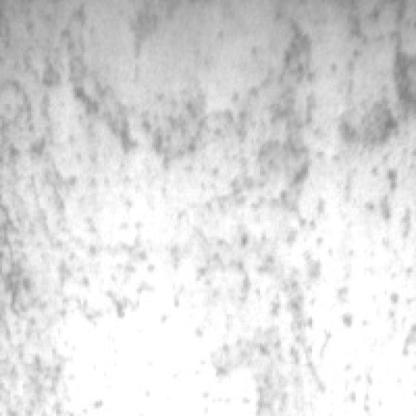pitted_surface: (0, 25, 410, 392)
